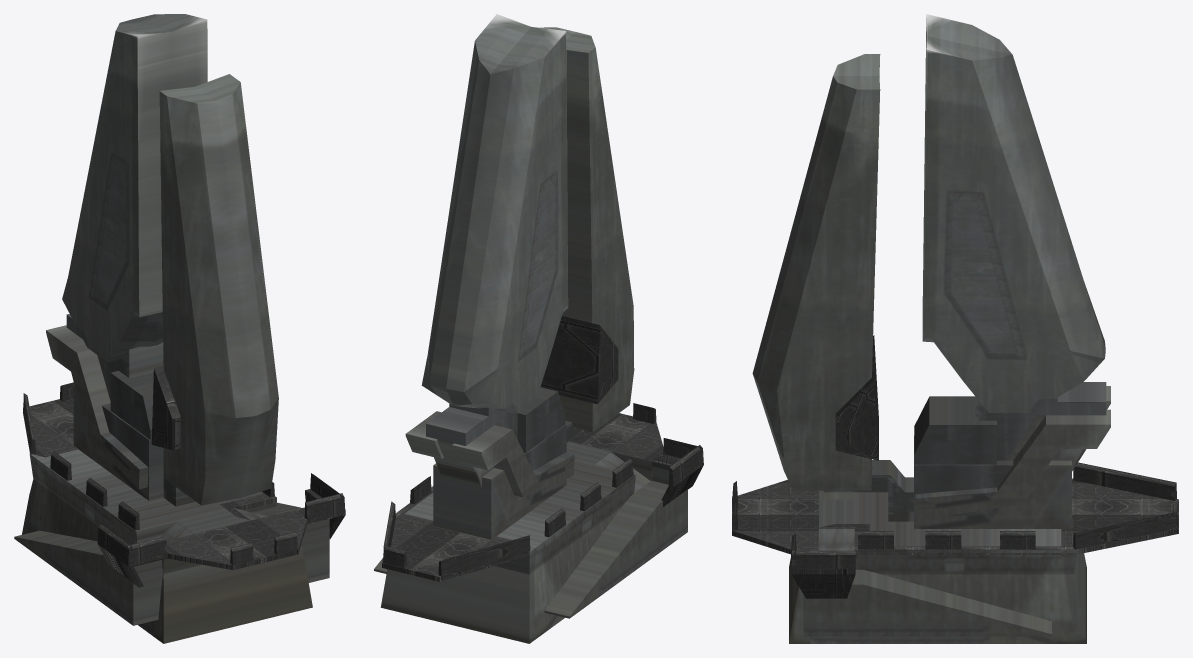
The model's file is halo_forerunner.glb.
The picture shows the model from 3 angles, left to right: view 1: azimuth 30°, elevation 25°; view 2: azimuth 150°, elevation 25°; view 3: azimuth 270°, elevation 25°; orthographic projection. The views are drawn at different scales.
Parts seen in each view (by area): view 1: Cube.016, Cube.011; view 2: Cube.016, Cube.011; view 3: Cube.016, Cube.011.
Part boxes in pixels (bbox=[...]): Cube.016: bbox=[14, 14, 345, 643]; Cube.011: bbox=[151, 366, 180, 450]; Cube.016: bbox=[374, 14, 703, 643]; Cube.011: bbox=[540, 316, 618, 404]; Cube.016: bbox=[732, 14, 1178, 643]; Cube.011: bbox=[835, 335, 878, 460].
Size of the model in its own units: 14.65 by 35.39 by 24.96.
2 materials, 2 textured.
